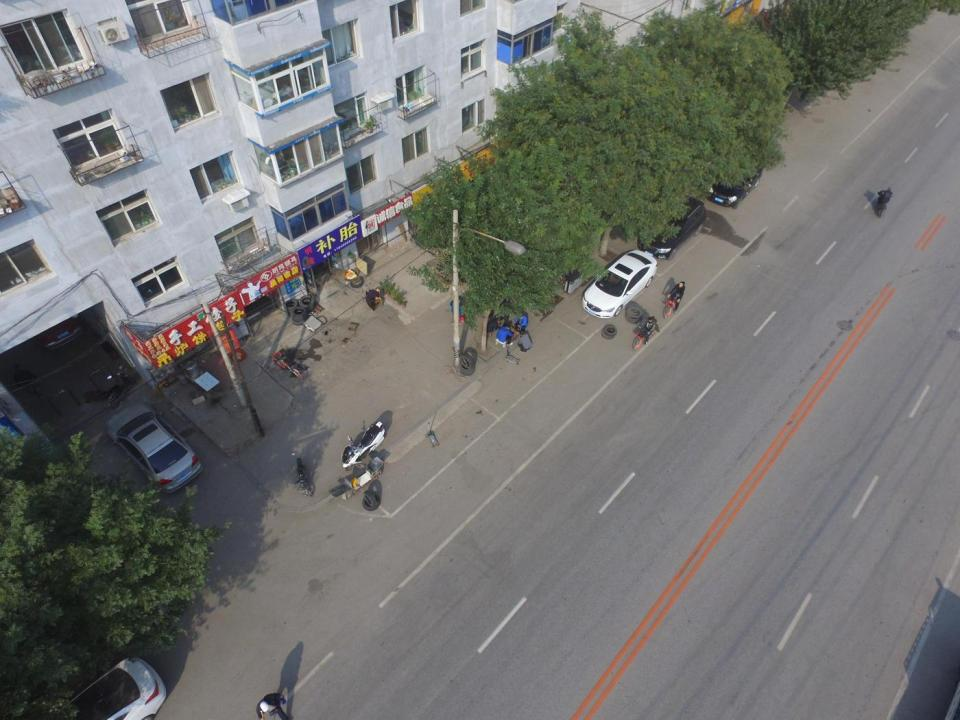car: (105, 401, 204, 495), (41, 657, 167, 720), (580, 249, 658, 319), (708, 156, 760, 209)
van: (637, 194, 707, 261)
